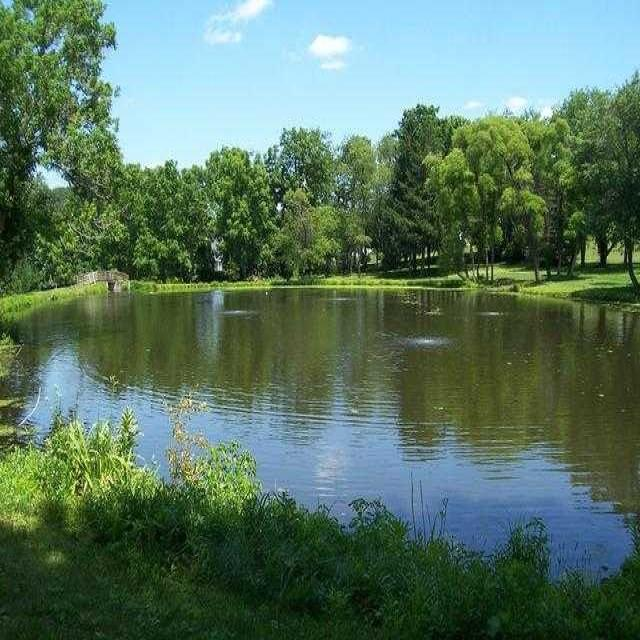Ponds: (8, 286, 640, 587)
